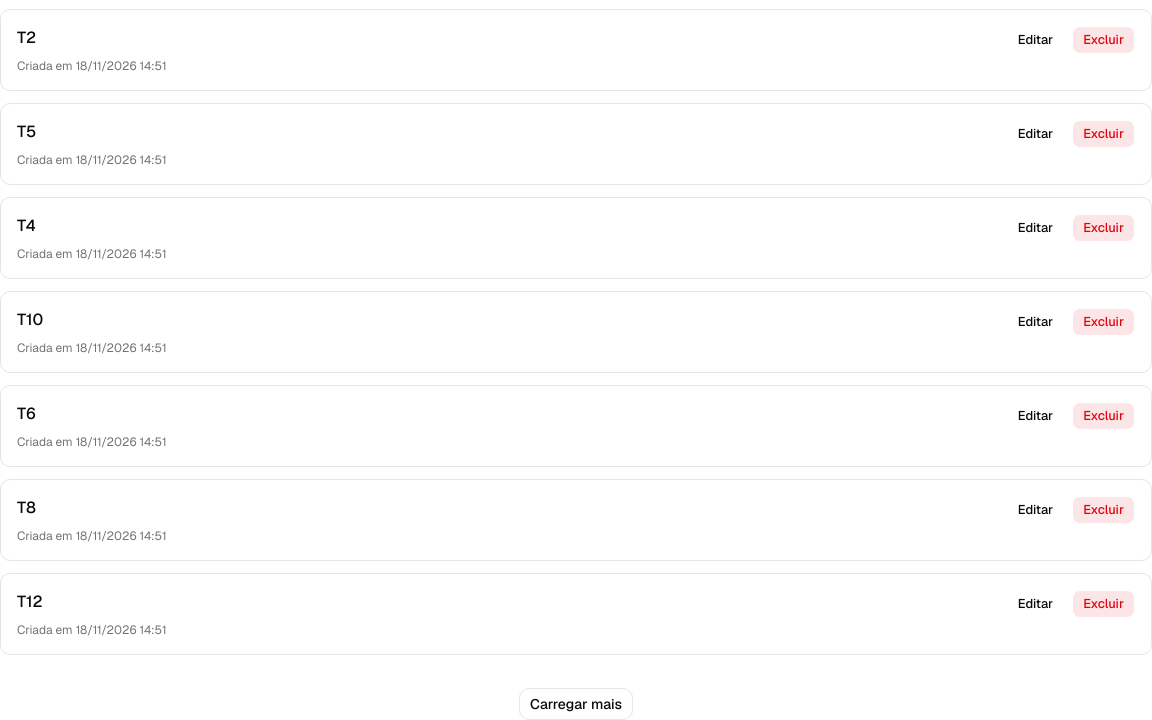
TarefasPagina: carregamento incremental › erro ao buscar a próxima página mantém a lista e oferece Tentar novamente
(page scrolled)
Click the button "Carregar mais" at (576, 704), box left=519, top=688, right=633, bottom=719
(page scrolled)
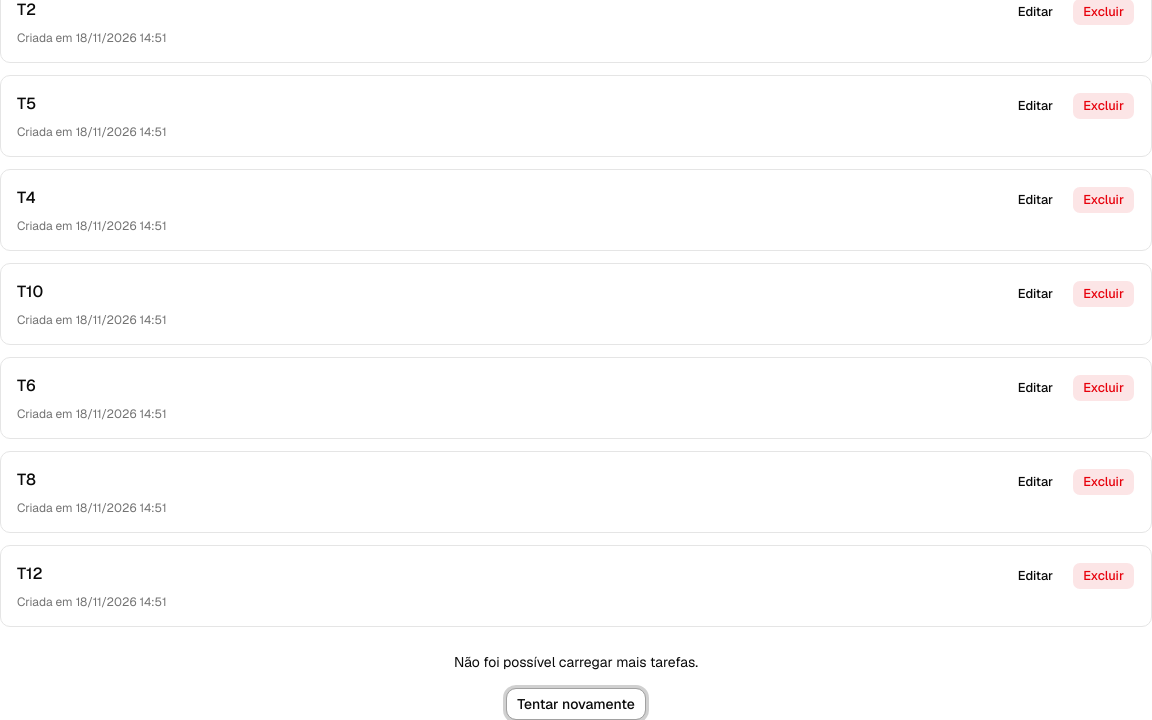
Result: the text "Não foi possível carregar mais tarefas." is shown at left=454, top=652, right=698, bottom=672
Click the button "Tentar novamente" at (576, 704), box left=506, top=688, right=646, bottom=719
(page scrolled)
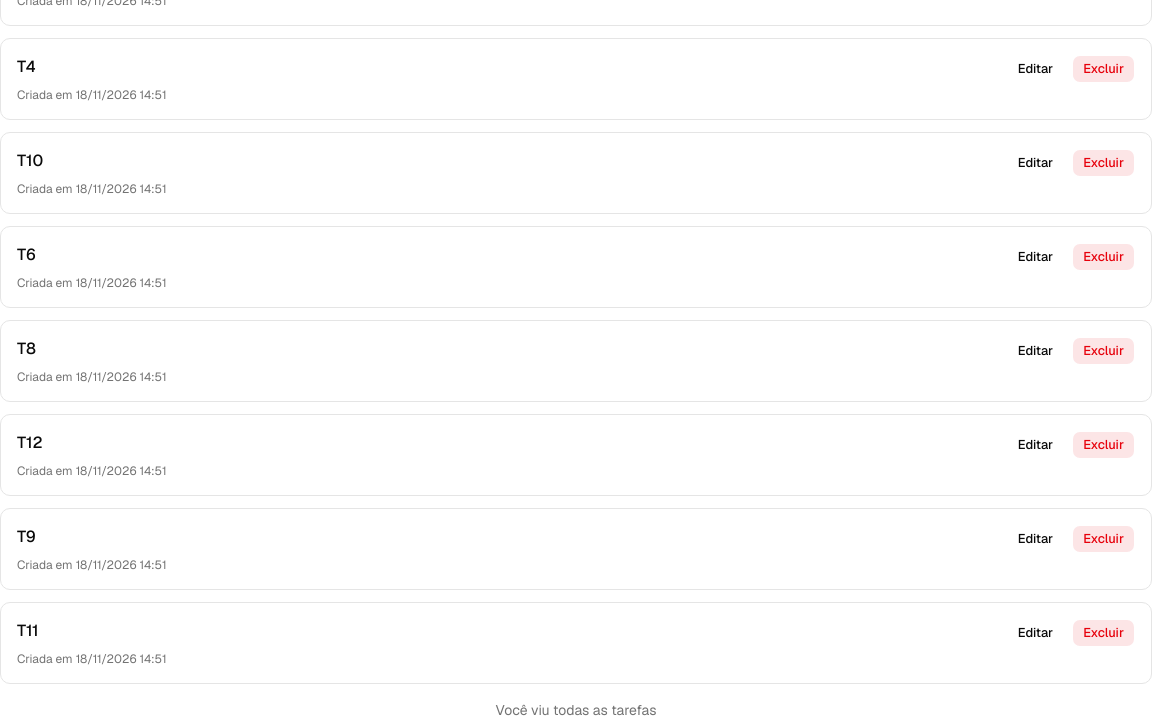
Result: the number of list items is 12
